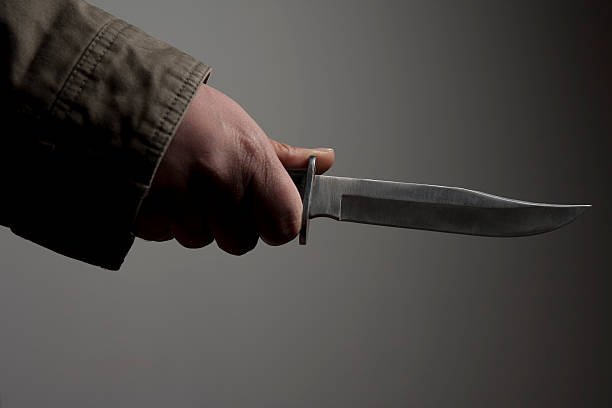knife: (283, 154, 594, 248)
